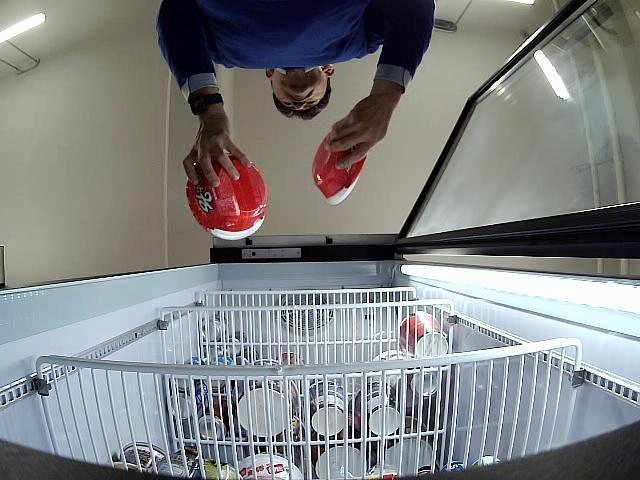10_wangTtukkeong: (186, 156, 266, 240), (314, 134, 368, 205)
